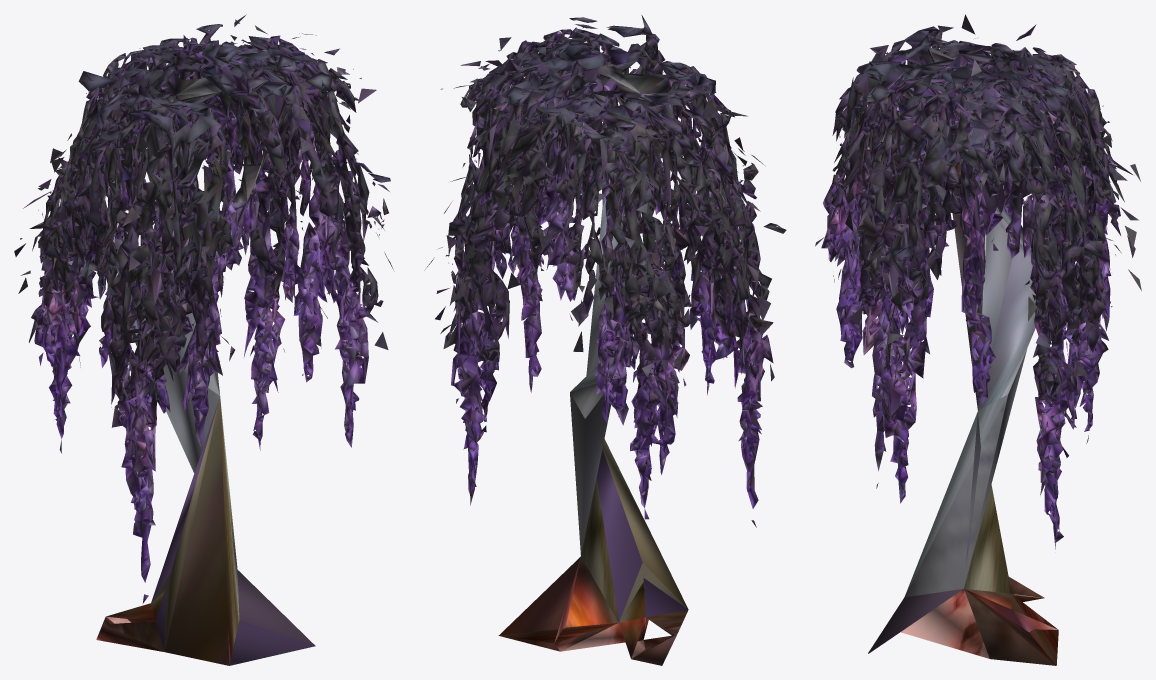
File: Enchanted_Wisteria_Tr.glb
3 renders of one model, left to right at view 1: azimuth 30°, elevation 25°; view 2: azimuth 150°, elevation 25°; view 3: azimuth 270°, elevation 25°, orthographic. The views are drawn at different scales.
Parts seen in each view (by area): view 1: Enchanted_Wisteria_Tr; view 2: Enchanted_Wisteria_Tr; view 3: Enchanted_Wisteria_Tr.
Part boxes in pixels (x1,y1,x2,y2): Enchanted_Wisteria_Tr: (14,14,394,665); Enchanted_Wisteria_Tr: (424,15,786,665); Enchanted_Wisteria_Tr: (815,14,1141,665).
Bounding box in the file's own units: 1.04 × 1.9 × 0.9319.
Materials: 1 (1 with a texture image).
